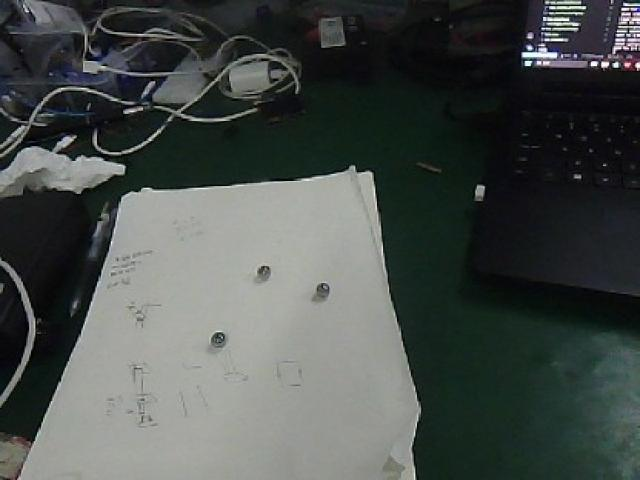steel-ball: (190, 315, 244, 357), (231, 246, 278, 288), (308, 271, 344, 309)
